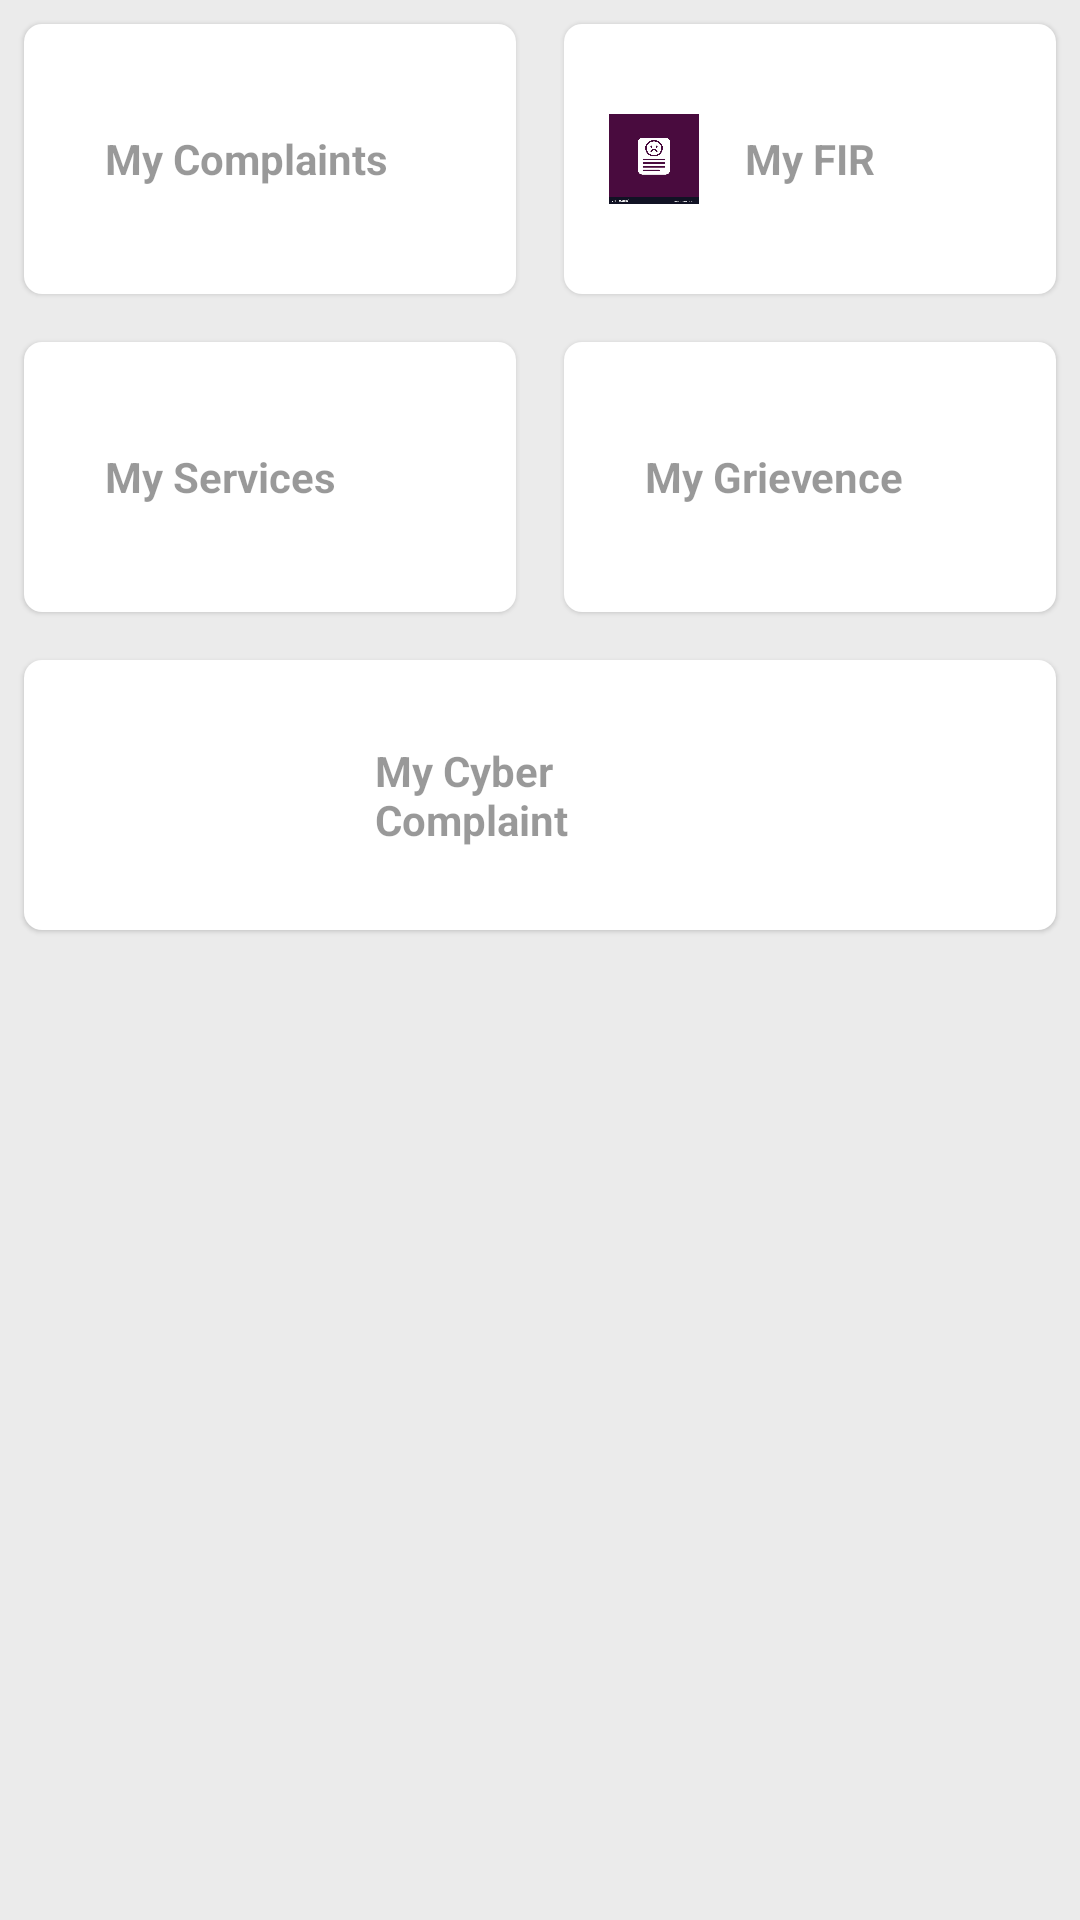

Where icons sit on this 1080px×1920px app screen, as (x1, y1, x2, y2):
complaint: (609, 114, 699, 204)
